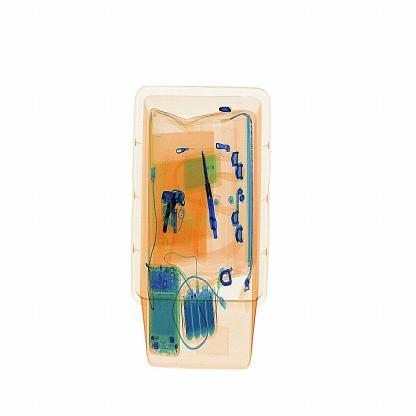gun: (190, 137, 230, 241)
